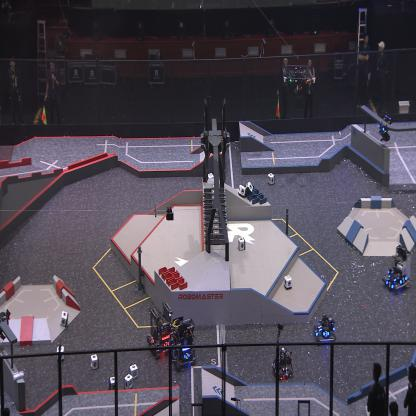car: (145, 302, 173, 360), (382, 244, 413, 294), (172, 315, 200, 370), (272, 345, 294, 380), (314, 313, 336, 343)
